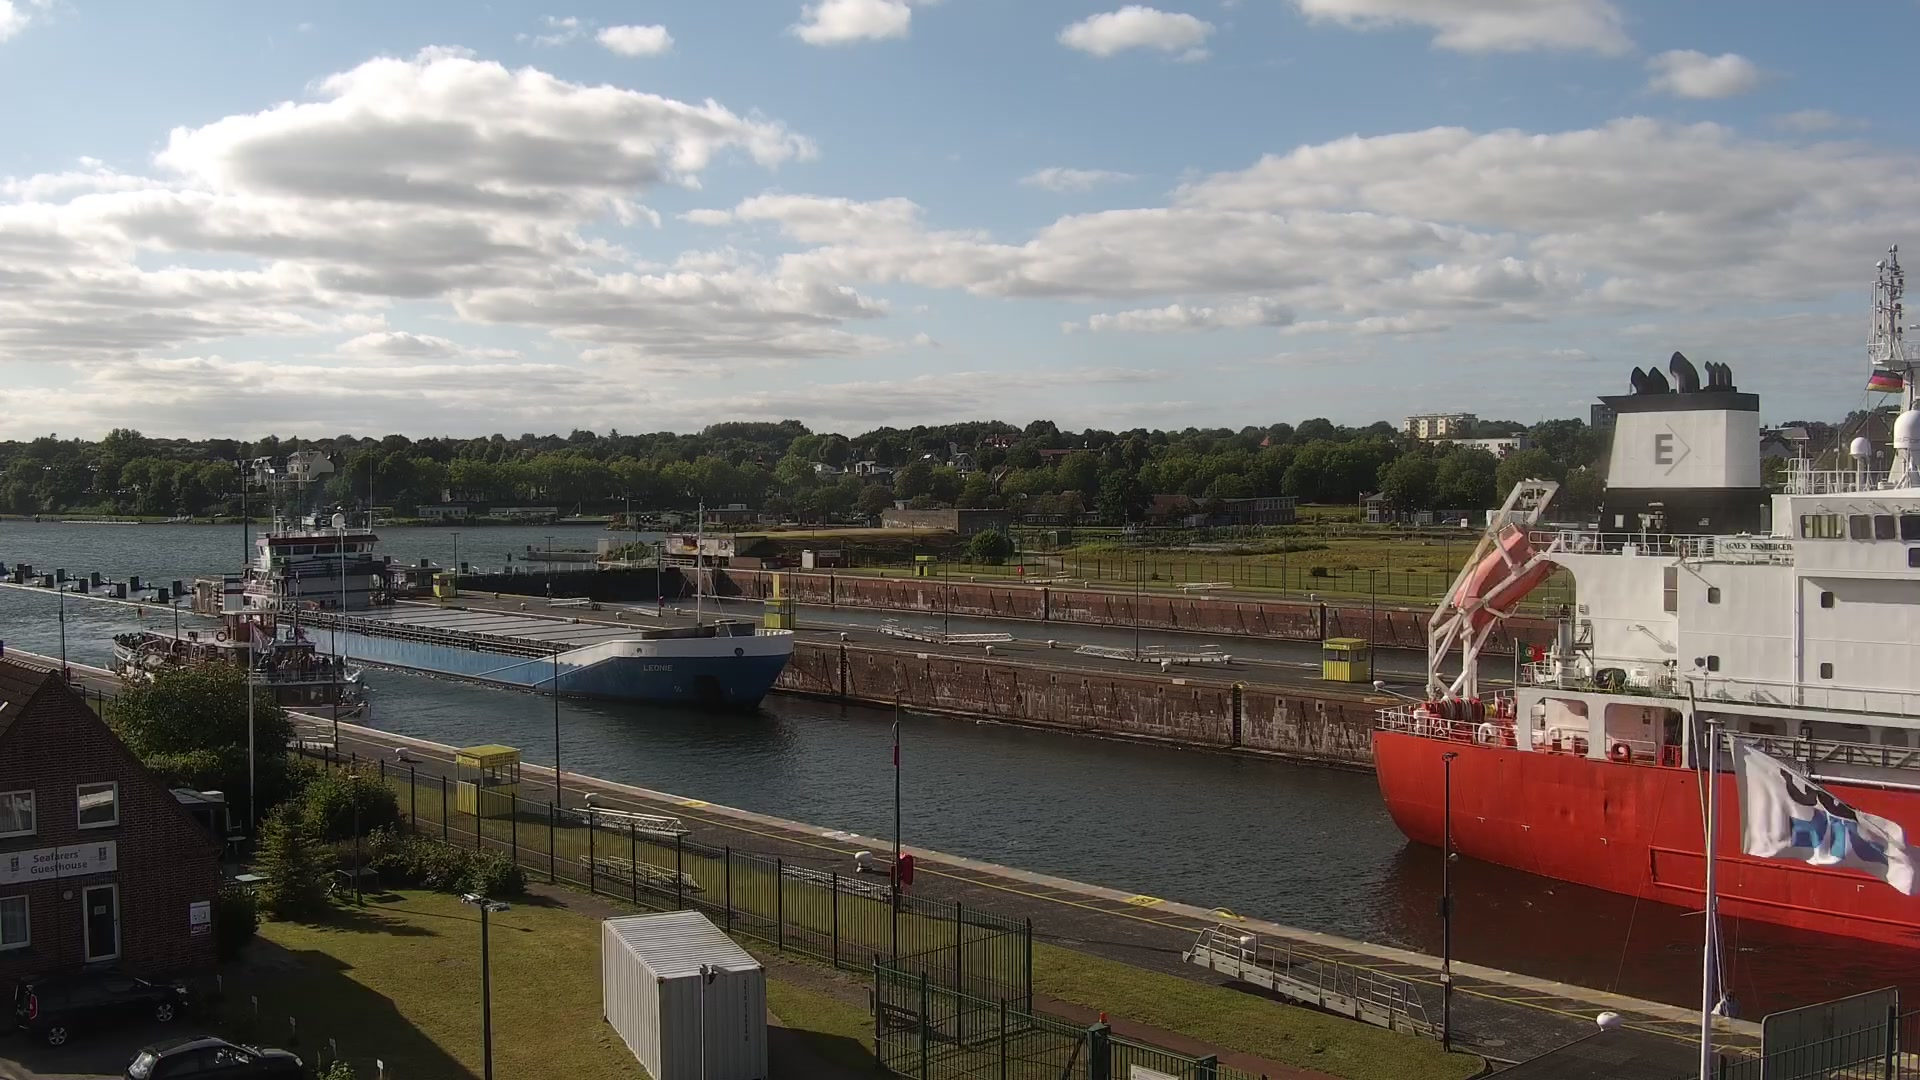land: (11, 967, 190, 1044), (117, 1033, 303, 1077), (1440, 516, 1460, 525), (852, 512, 868, 521)
sea: (1366, 241, 1919, 952), (107, 502, 795, 725), (107, 607, 371, 725)
